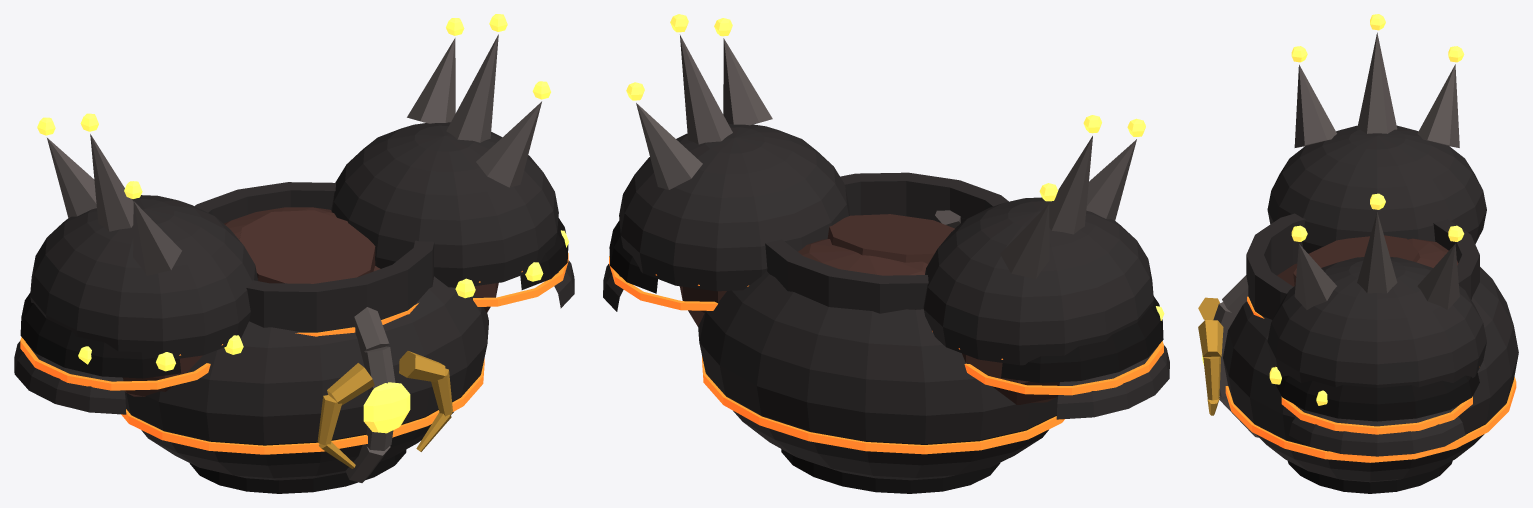
The model's file is hearth_guard_cuirass.glb.
3 renders of one model, left to right at view 1: azimuth 30°, elevation 25°; view 2: azimuth 150°, elevation 25°; view 3: azimuth 270°, elevation 25°, orthographic. The views are drawn at different scales.
Parts seen in each view (by area): view 1: hearth_guard_cuirass; view 2: hearth_guard_cuirass; view 3: hearth_guard_cuirass.
Boxes of the visible parts, x1,y1,x2,y2 form: hearth_guard_cuirass: (14, 14, 574, 493); hearth_guard_cuirass: (603, 14, 1169, 493); hearth_guard_cuirass: (1198, 14, 1518, 493).
Bounding box in the file's own units: 1.56 × 1.11 × 0.9059.
